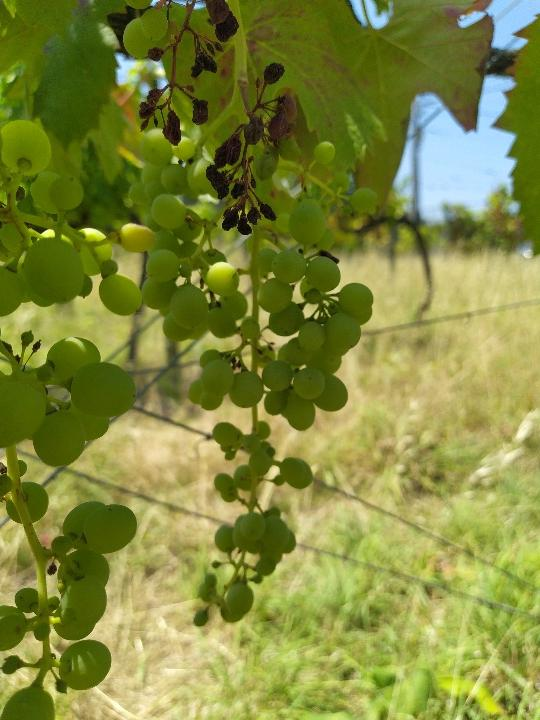grape: (121, 97, 390, 642), (122, 1, 303, 240)
